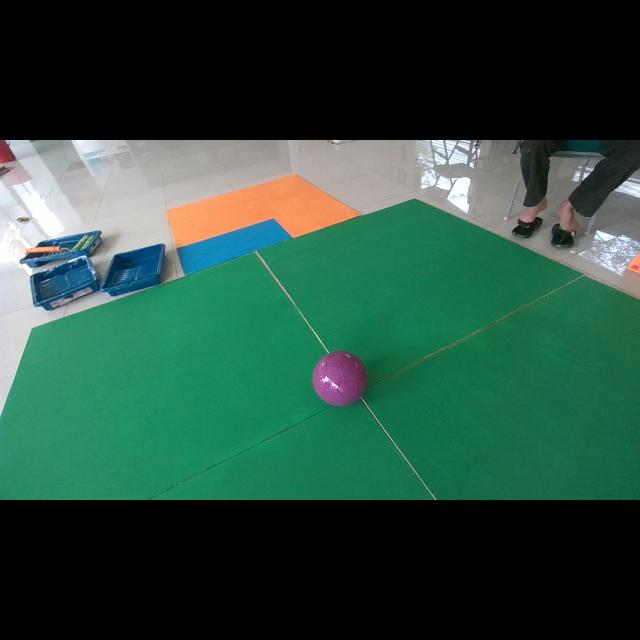R: (312, 351, 368, 406)
